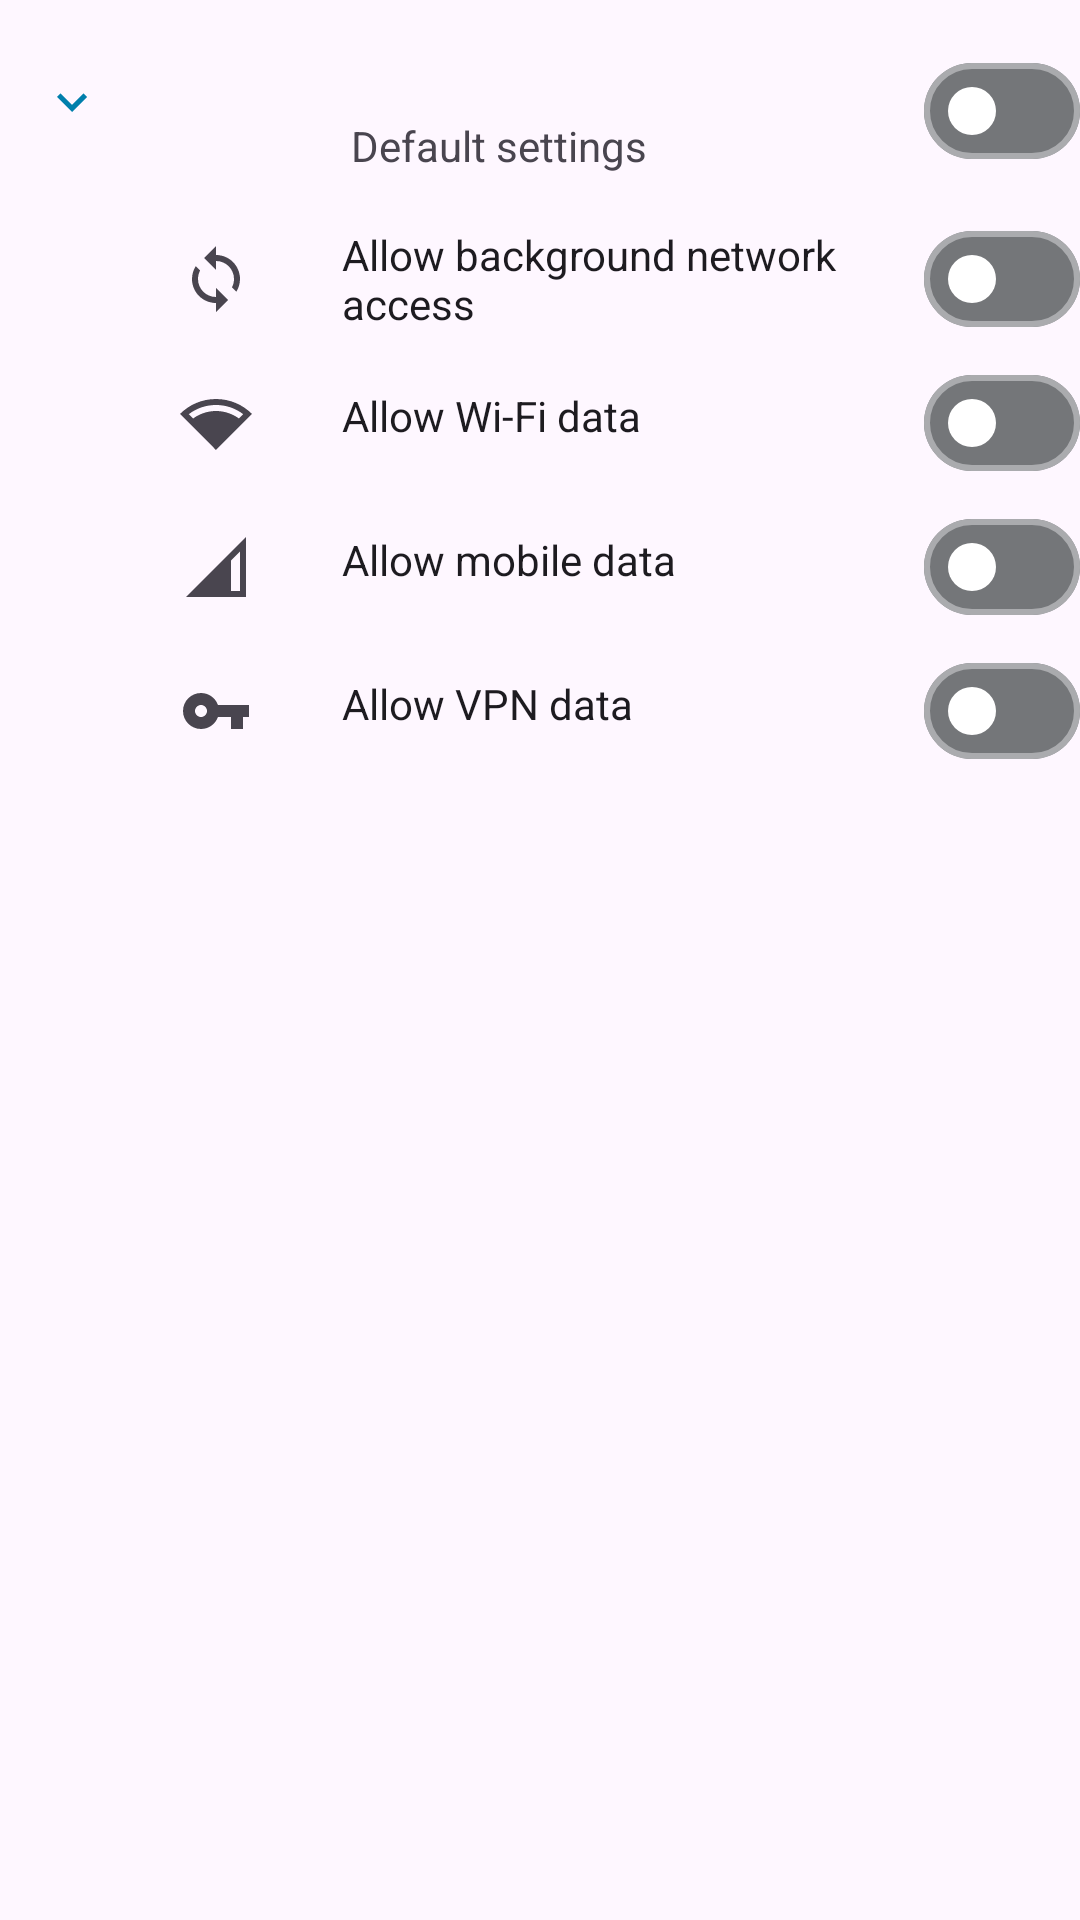

Icon bounding boxes for this 1080w x 1920h phone screenshot, format [x1=x1, y1=y1, x2=x2, y2=y2]:
arrow down: [x1=57, y1=93, x2=87, y2=112]
